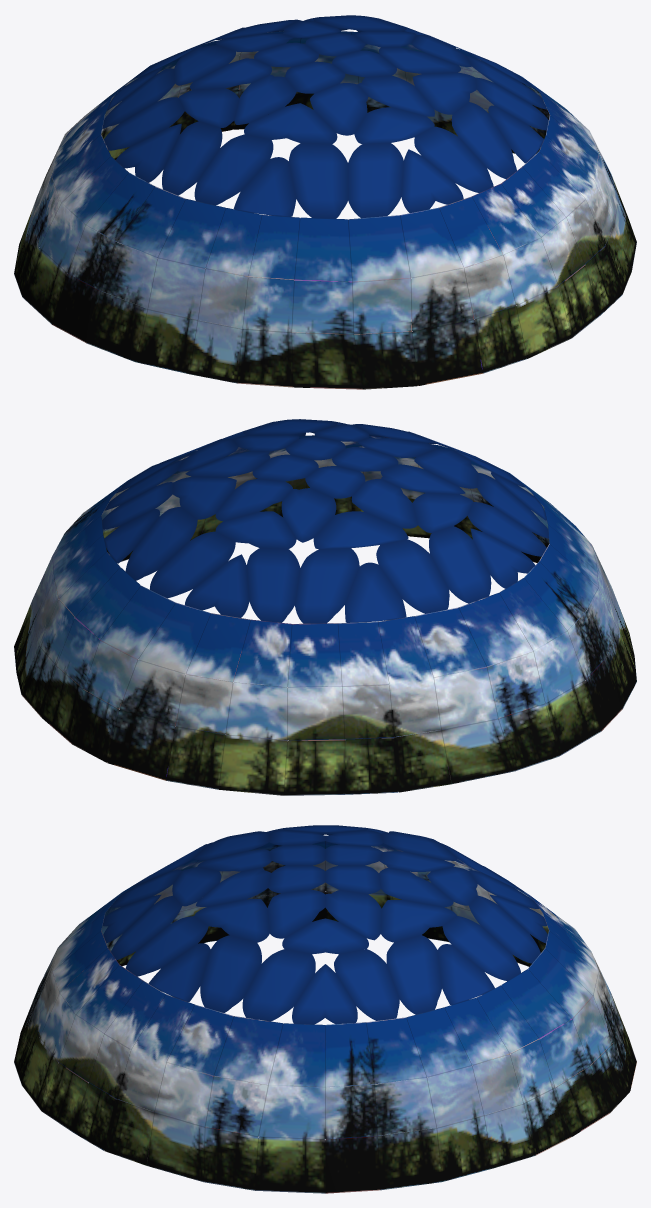
The picture shows the model from 3 angles, top to bottom: view 1: azimuth 30°, elevation 25°; view 2: azimuth 150°, elevation 25°; view 3: azimuth 270°, elevation 25°; orthographic projection. The views are drawn at different scales.
Visible parts, largest first — view 1: T1L2M002_31; view 2: T1L2M002_31; view 3: T1L2M002_31.
Part boxes in pixels (<box>): T1L2M002_31: <box>14,15,636,389</box>; T1L2M002_31: <box>14,419,636,795</box>; T1L2M002_31: <box>14,825,636,1193</box>.
Bounding box in the file's own units: 4.09 × 1.42 × 4.09.
